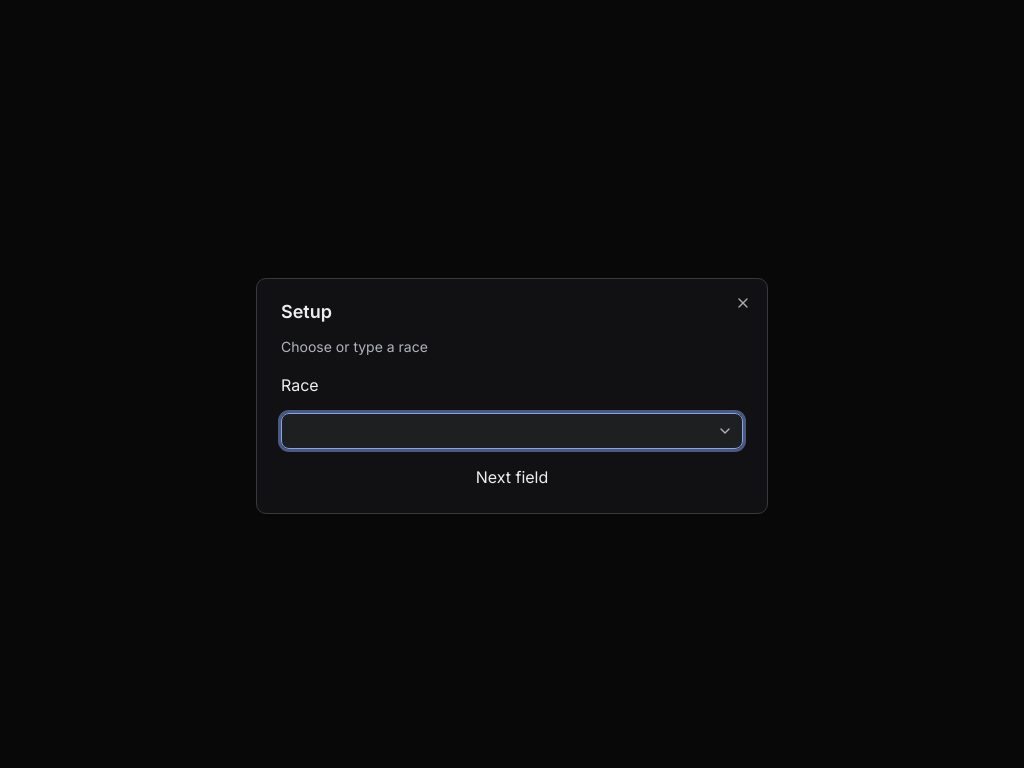
Test case: keyboard wraps and chooses in the input, scrolls active options, and Escape only closes suggestions
The image size is (1024, 768).
Step 1. Focus the dropdown labelled "Race" → [512, 431], box [281,413,743,449]
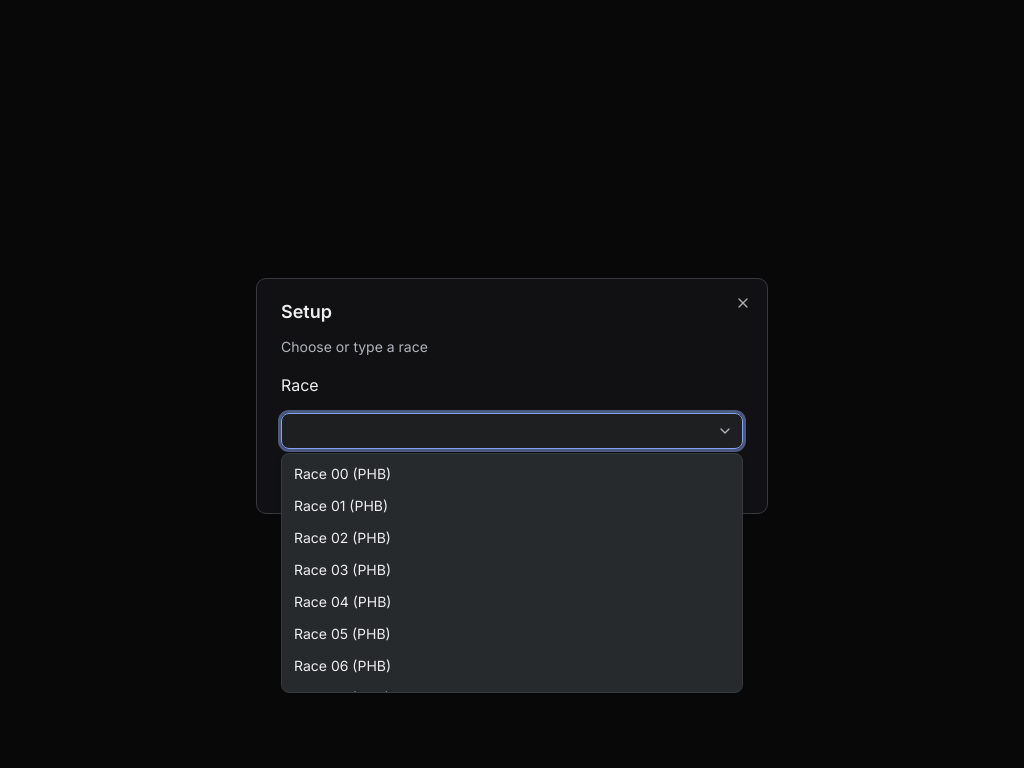
Check: the list named "Race suggestions" is shown, box [281,453,743,693]
Step 2. Press ArrowDown in the dropdown labelled "Race", box [281,413,743,449]
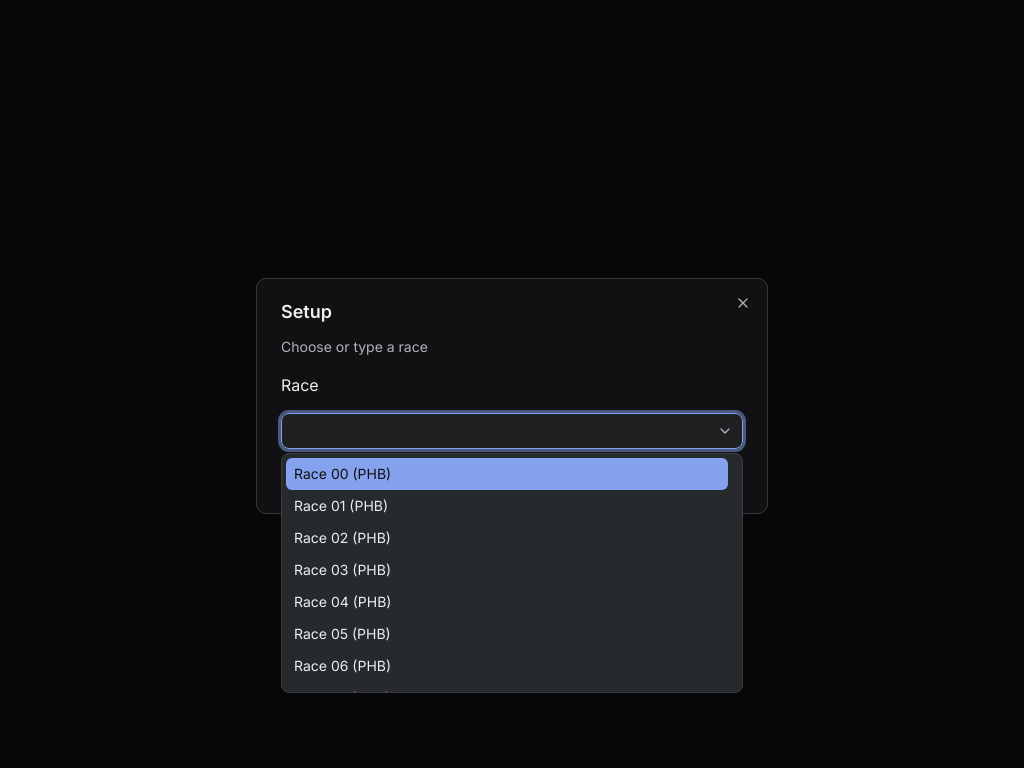
Step 3. Press ArrowUp in the dropdown labelled "Race", box [281,413,743,449]
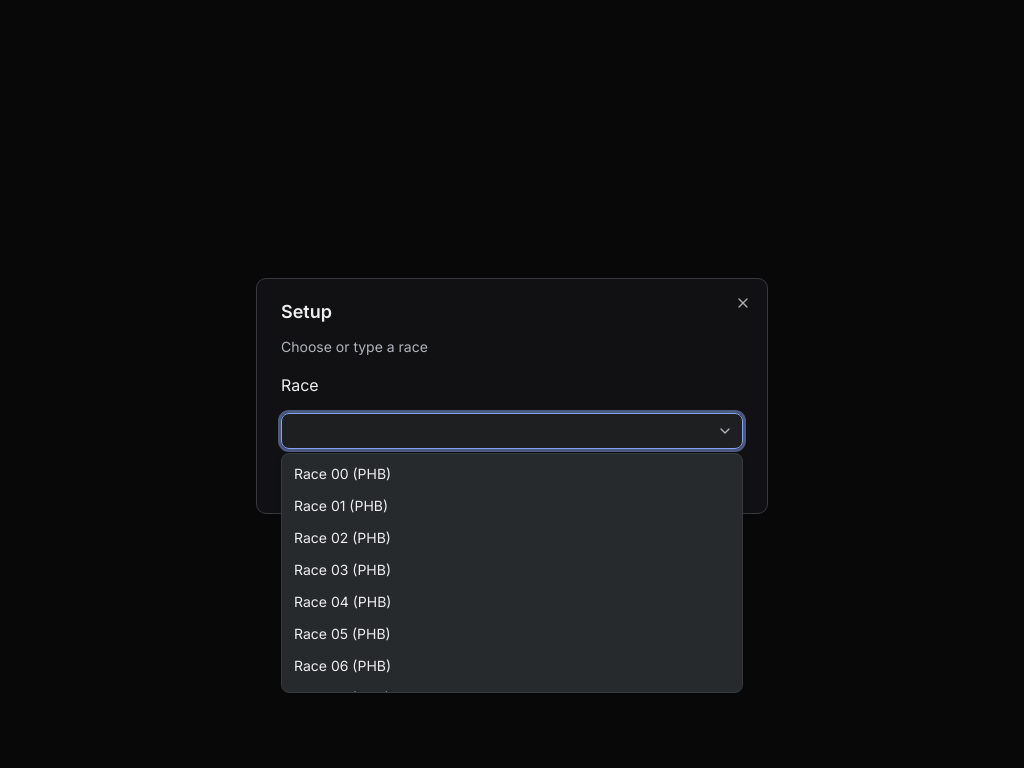
Step 4. Press Enter in the dropdown labelled "Race", box [281,413,743,449]
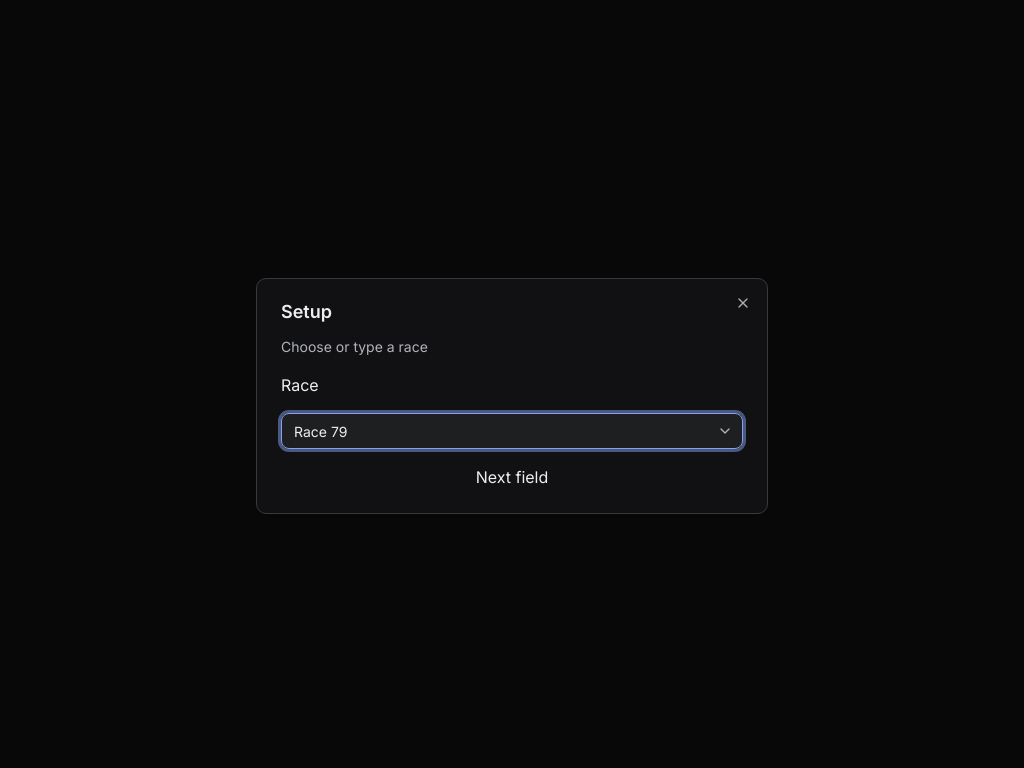
Check: the dropdown labelled "Race" holds "Race 79", box [281,413,743,449]
Check: the list is gone
Step 5. Click the button named "Show race suggestions" → [725, 431], box [707,413,743,449]
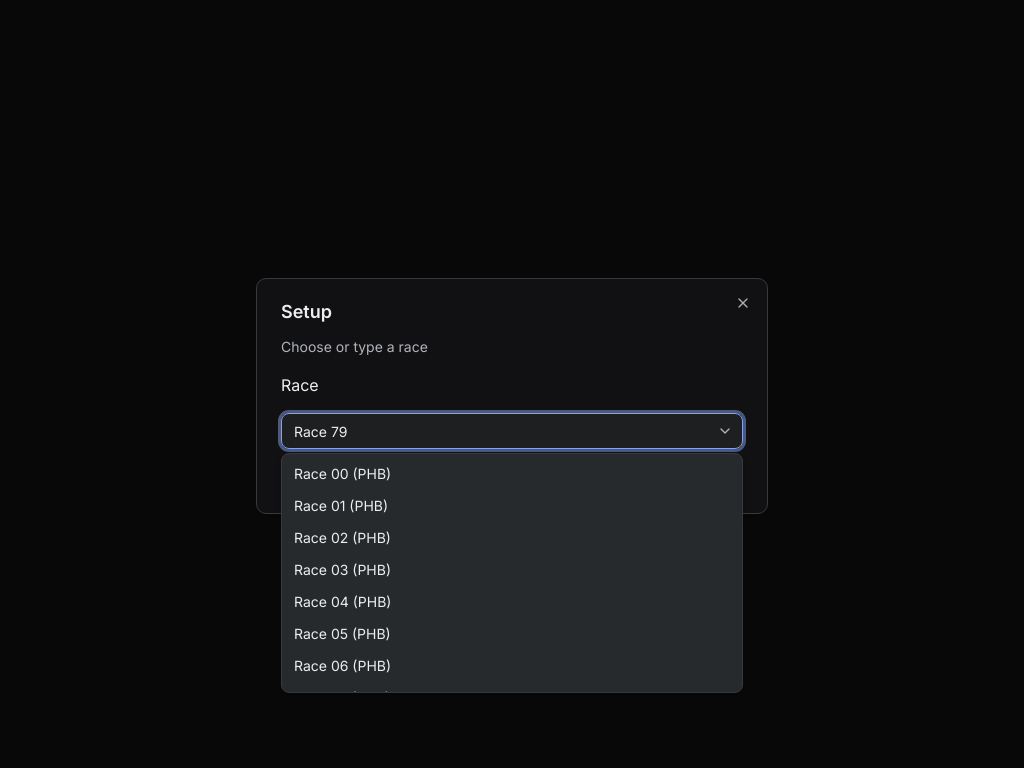
Check: the list is shown, box [281,453,743,693]
Step 6. Press Escape in the dropdown labelled "Race", box [281,413,743,449]
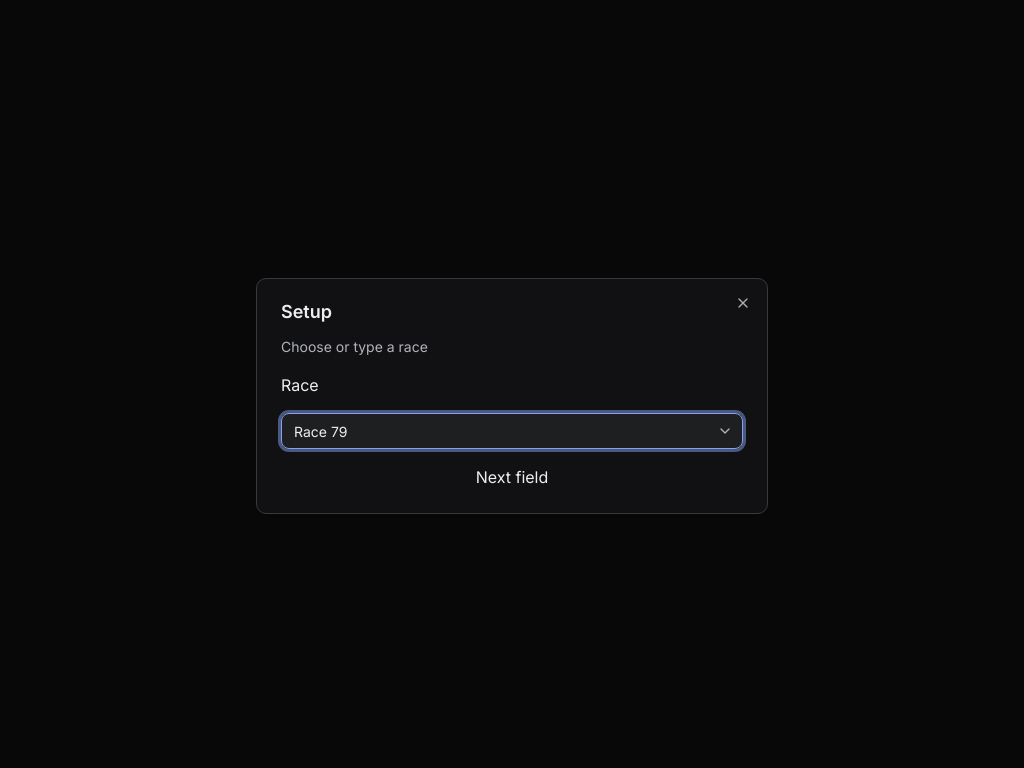
Check: the dialog is shown, box [256,278,768,514]
Check: the dropdown labelled "Race" holds "Race 79", box [281,413,743,449]
Check: the list is gone
